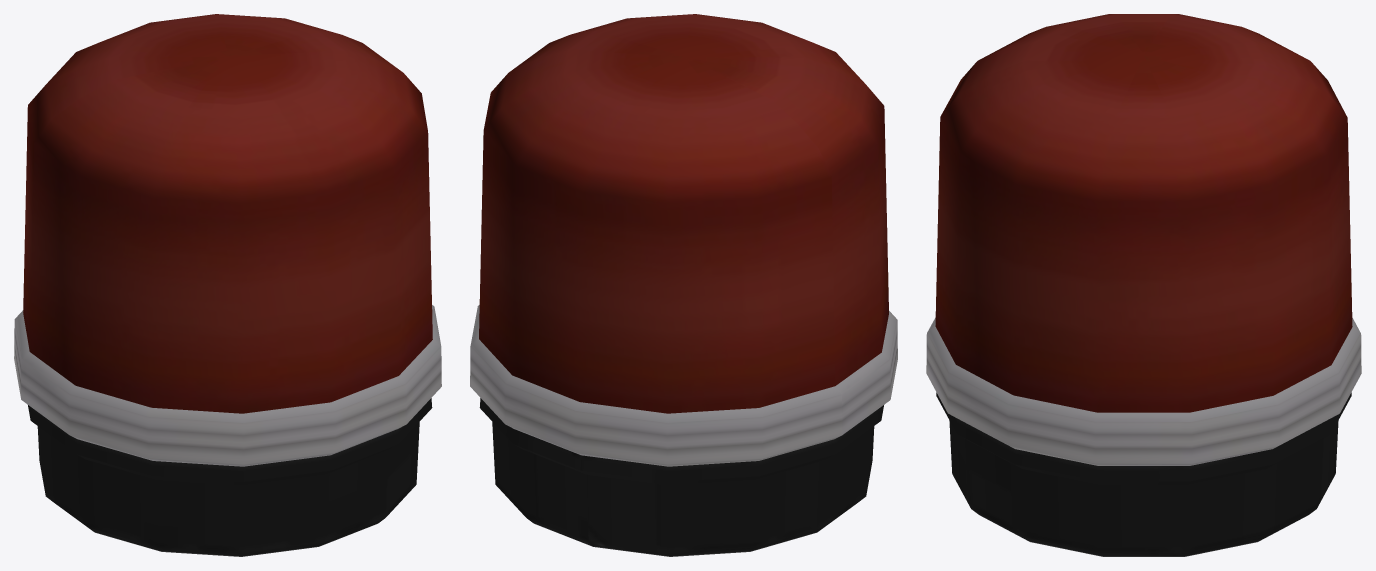
3 views of the same model, side by side, from view 1: azimuth 30°, elevation 25°; view 2: azimuth 150°, elevation 25°; view 3: azimuth 270°, elevation 25° (orthographic).
Bounding box in the file's own units: 4 × 4.43 × 4.1.
3 materials, 3 textured.
